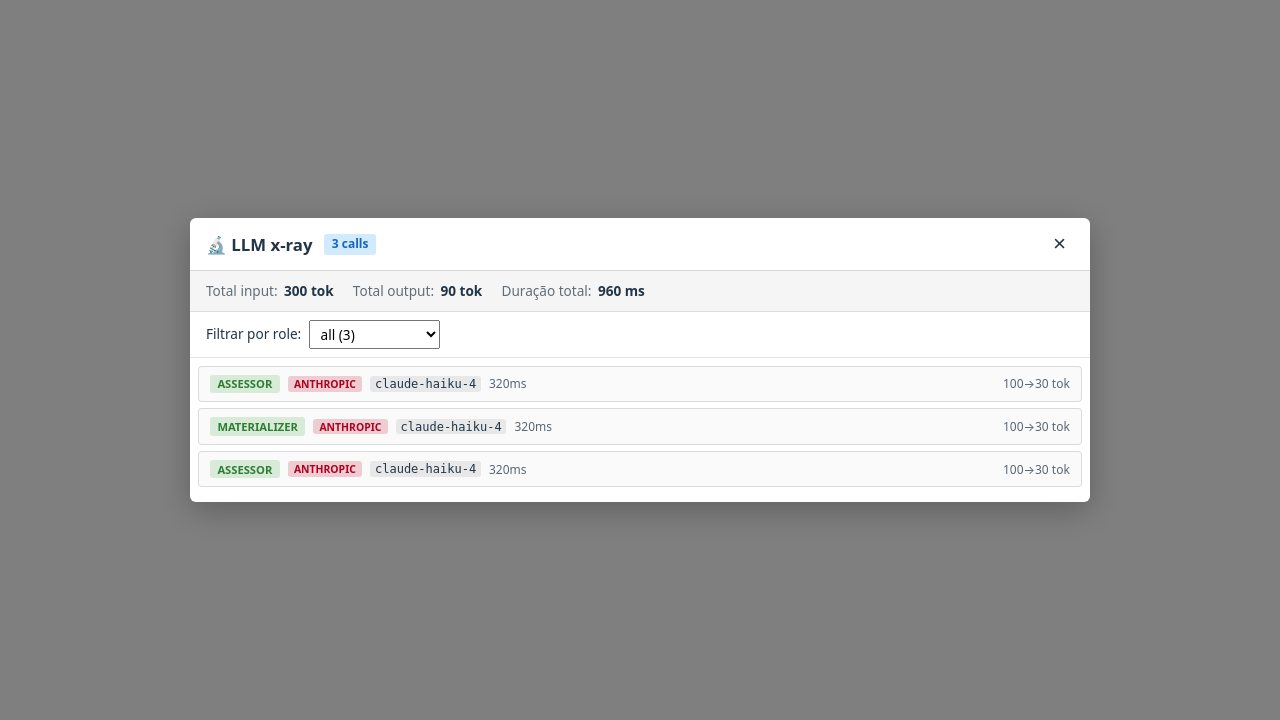
Test: LlmXrayPanel.svelte — role filter › seleciona role → filtra rows
Select "assessor (2)" in the dropdown with test id "llm-xray-role-select" at (375, 334), box x1=309 y1=320 x2=440 y2=349
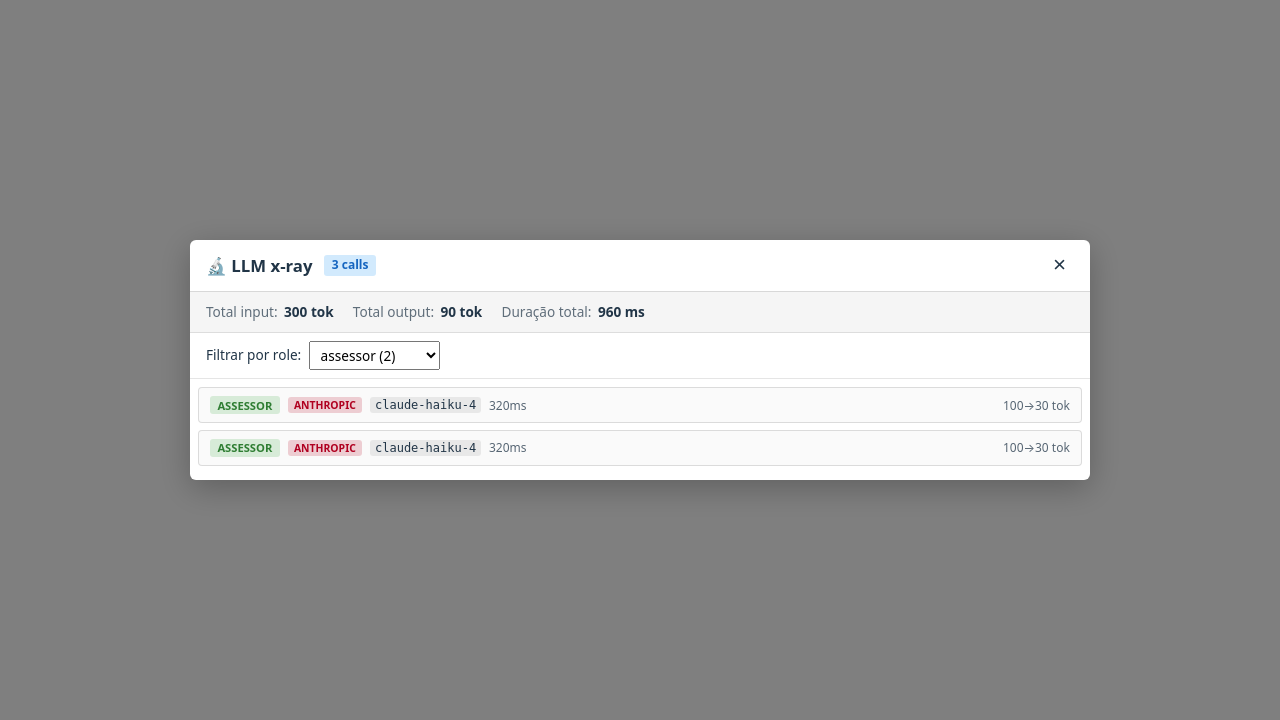
Result: the number of elements with test id "llm-xray-call" is 2 at x1=198 y1=387 x2=1082 y2=423; x1=198 y1=430 x2=1082 y2=466
